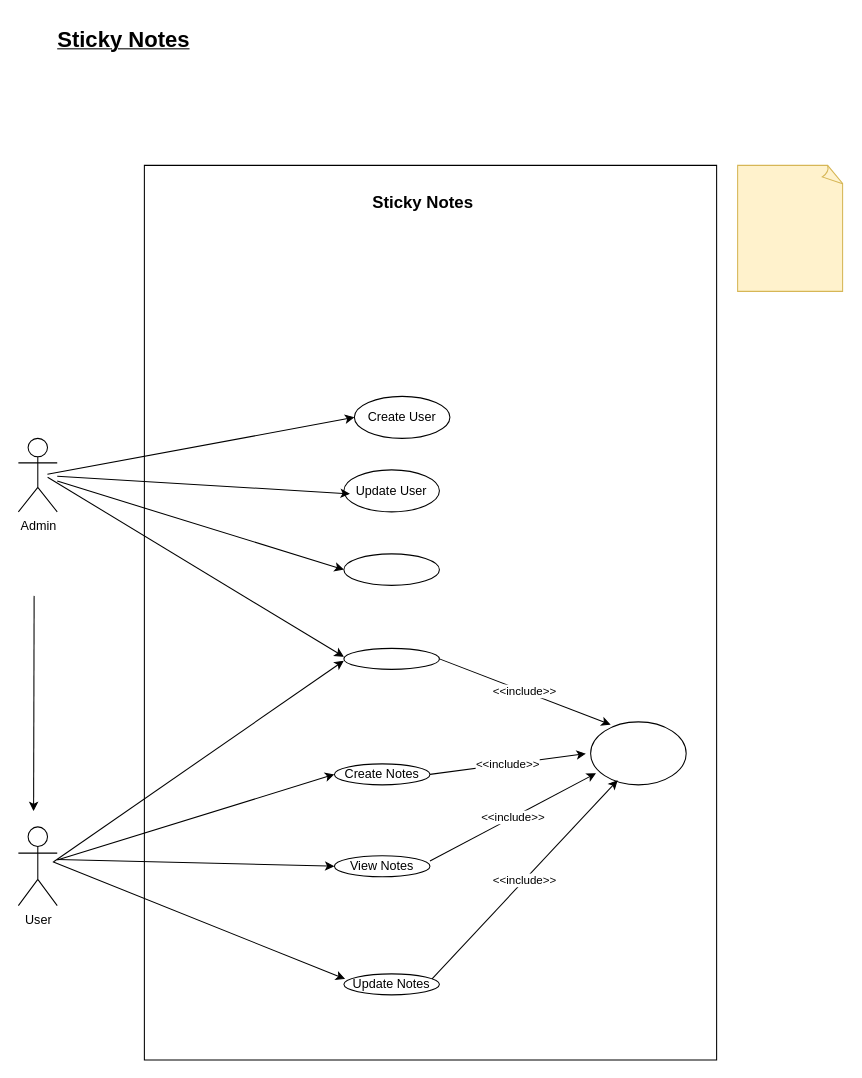
Some shapes in this 862 by 1078 pixel diagram are drawn without their labels. Each missing label, with the box of its shape:
Delete Notes: (343, 647, 439, 669)
Delete User: (343, 553, 439, 585)
Login: (590, 721, 686, 785)
Please check the Sticky Notes Diagram on different Pages: (737, 164, 844, 291)
